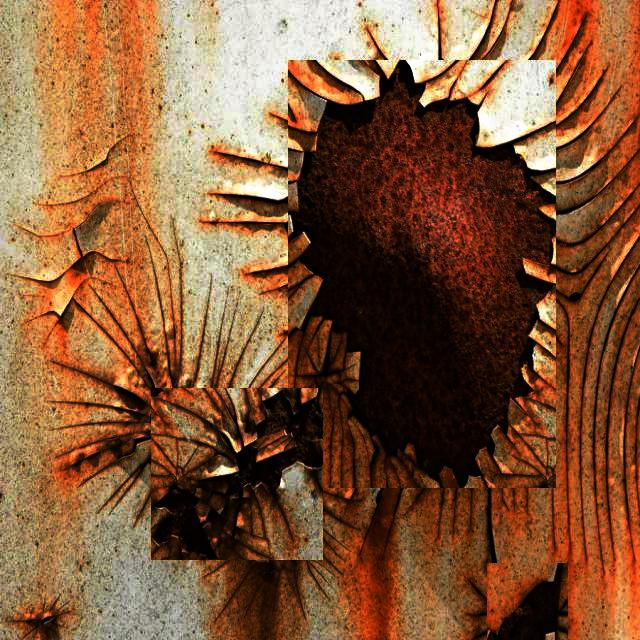Corrosion: (295, 68, 554, 480), (237, 392, 322, 492), (150, 490, 215, 561), (488, 582, 560, 640)
